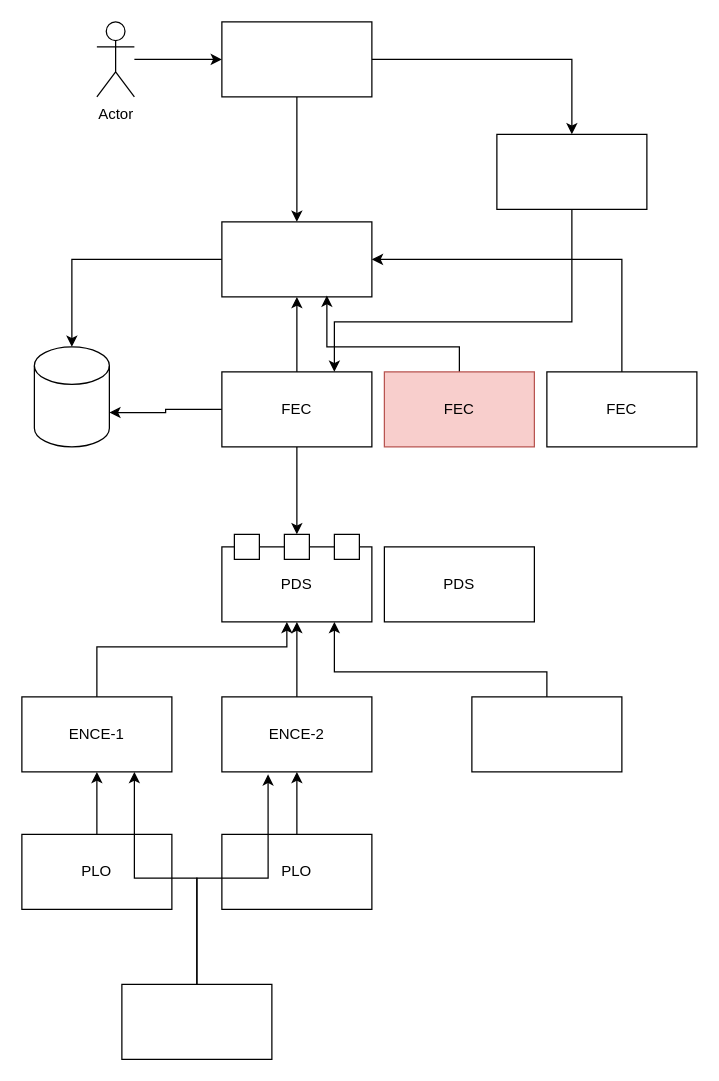
This 719x1081 diagram has some shape labels left out. The box of each missing label's shape, as (x1, y1, x2, y2) in pixels:
ENCE-N: (471, 696, 622, 772)
PRO: (121, 983, 272, 1059)
Signalling control: (496, 133, 647, 209)
Signalling monitoring: (221, 221, 372, 297)
sinoptico: (221, 21, 372, 97)
